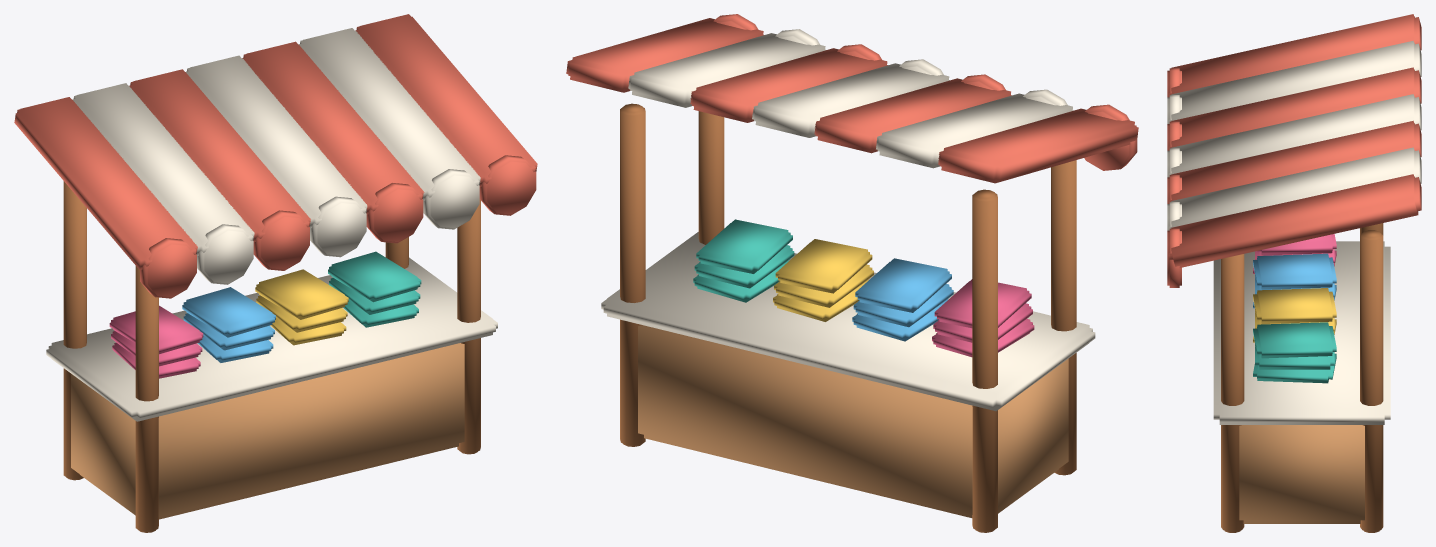
Rendered from MarketStall_Artesanato.fbx.
3 renders of one model, left to right at view 1: azimuth 30°, elevation 25°; view 2: azimuth 150°, elevation 25°; view 3: azimuth 270°, elevation 25°, orthographic. The views are drawn at different scales.
Visible parts, largest first — view 1: MarketStall_Artesanato; view 2: MarketStall_Artesanato; view 3: MarketStall_Artesanato.
Boxes of the visible parts, x1=… form: MarketStall_Artesanato: x1=14, y1=14, x2=537, y2=532; MarketStall_Artesanato: x1=566, y1=14, x2=1138, y2=532; MarketStall_Artesanato: x1=1167, y1=14, x2=1421, y2=532.
Size of the model in its own units: 3.05 by 2.65 by 1.75.
